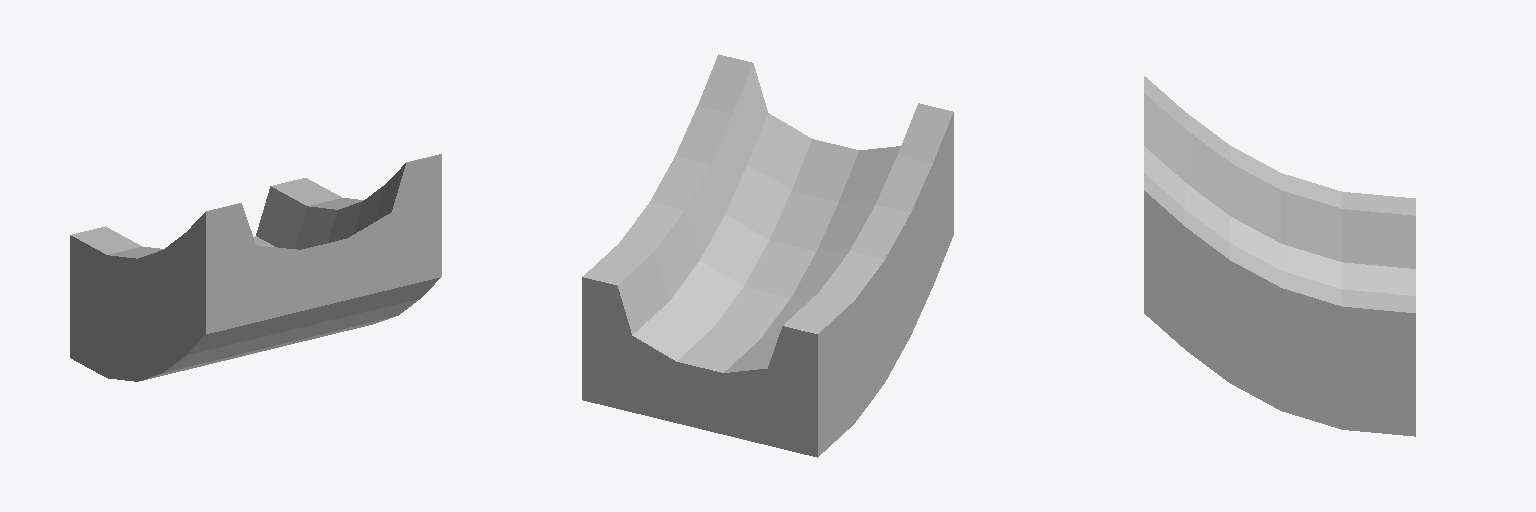
The model's file is ramp-start-c.obj.
3 views of the same model, side by side, from view 1: azimuth 30°, elevation 25°; view 2: azimuth 150°, elevation 25°; view 3: azimuth 270°, elevation 25° (orthographic).
Parts seen in each view (by area): view 1: ramp-start-c; view 2: ramp-start-c; view 3: ramp-start-c.
Boxes of the visible parts, x1,y1,x2,y2 form: ramp-start-c: [70, 154, 441, 381]; ramp-start-c: [582, 54, 953, 457]; ramp-start-c: [1144, 76, 1415, 436].
Size of the model in its own units: 1 by 1 by 1.